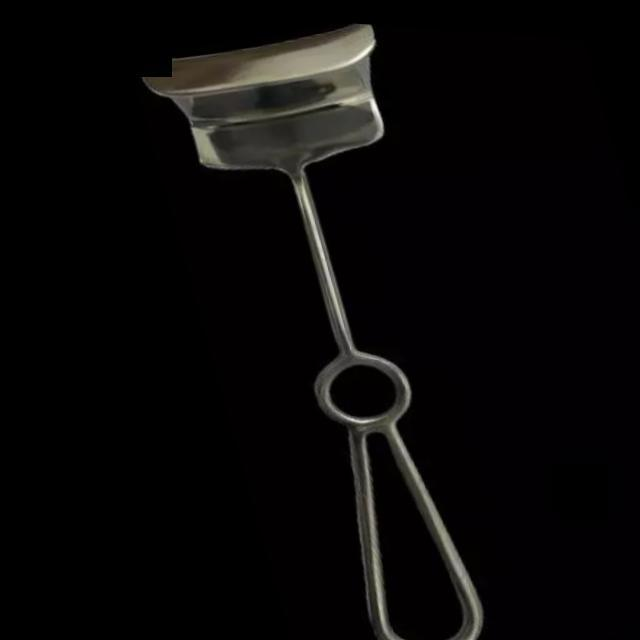Morris Retractor: (121, 6, 549, 640)
